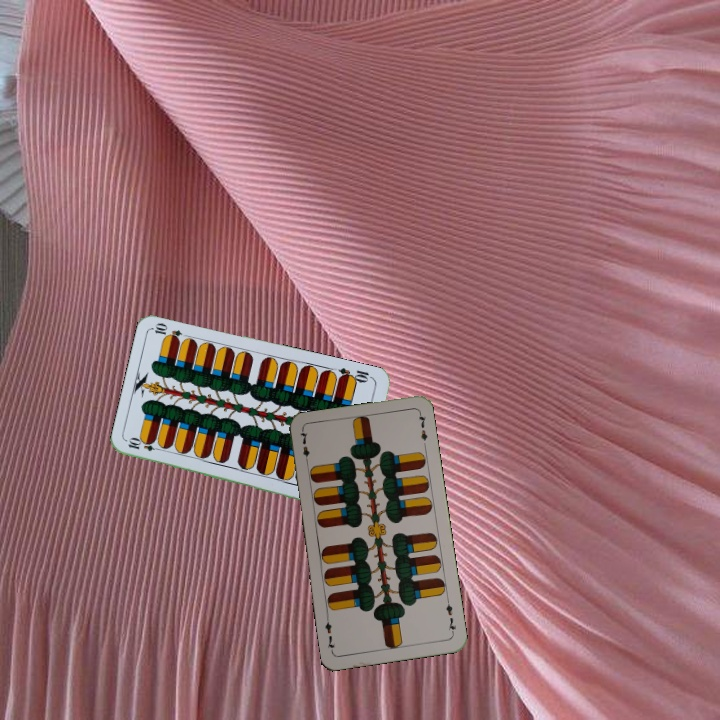E10: (335, 364, 375, 385), (124, 436, 165, 454)
E7: (296, 427, 312, 468), (442, 596, 458, 636)
